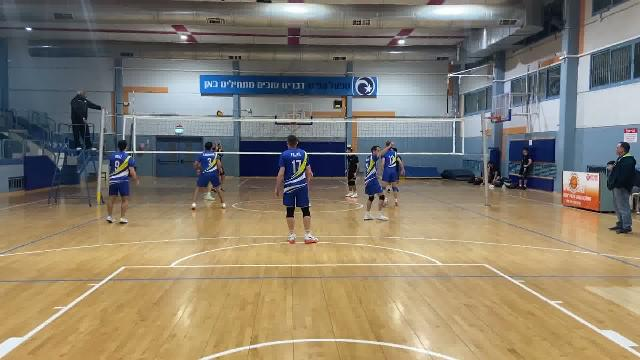ball: (212, 108, 226, 120)
